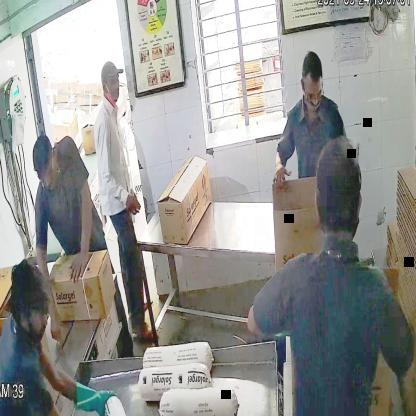goggles: (300, 82, 328, 107)
